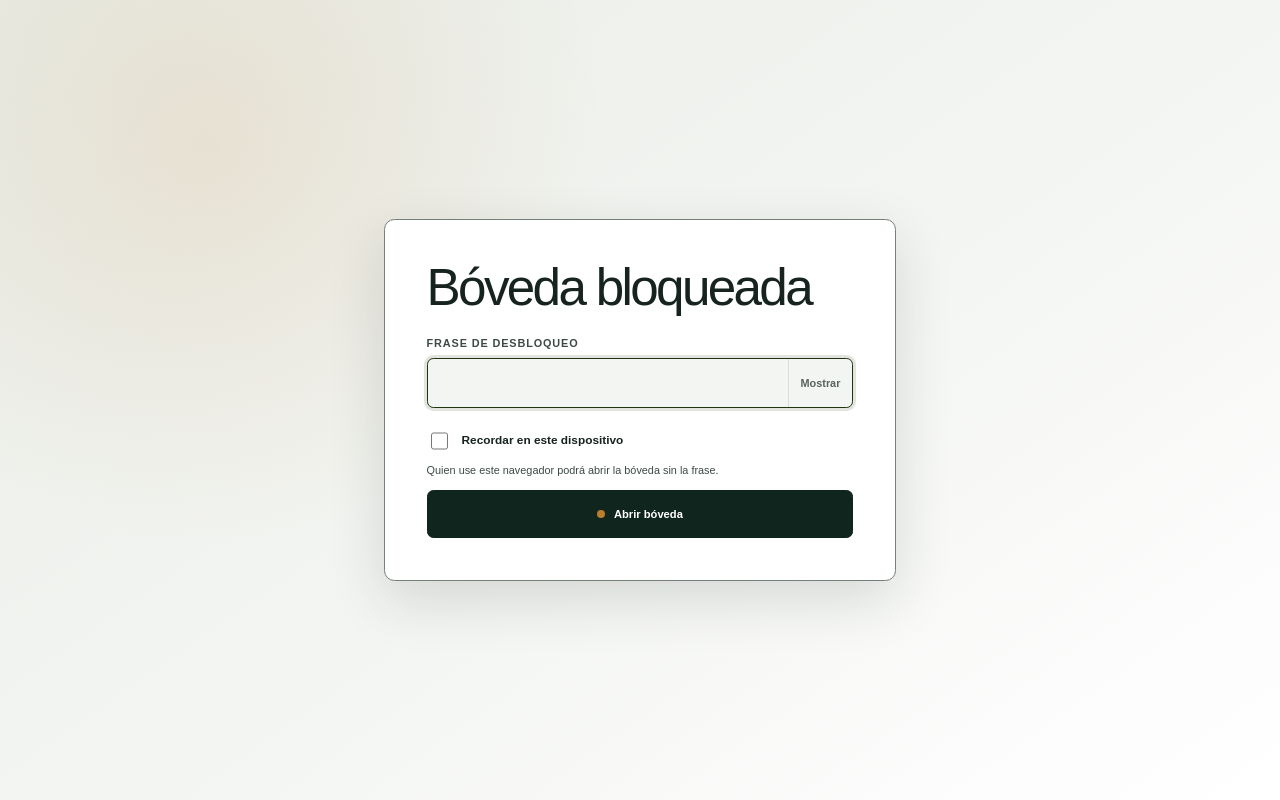
Test: App integration › opens the comparison directly without changing the selected perspective
Type "correct horse battery staple" into the password field labelled "Frase de desbloqueo" at (608, 383), box [428, 359, 788, 407]
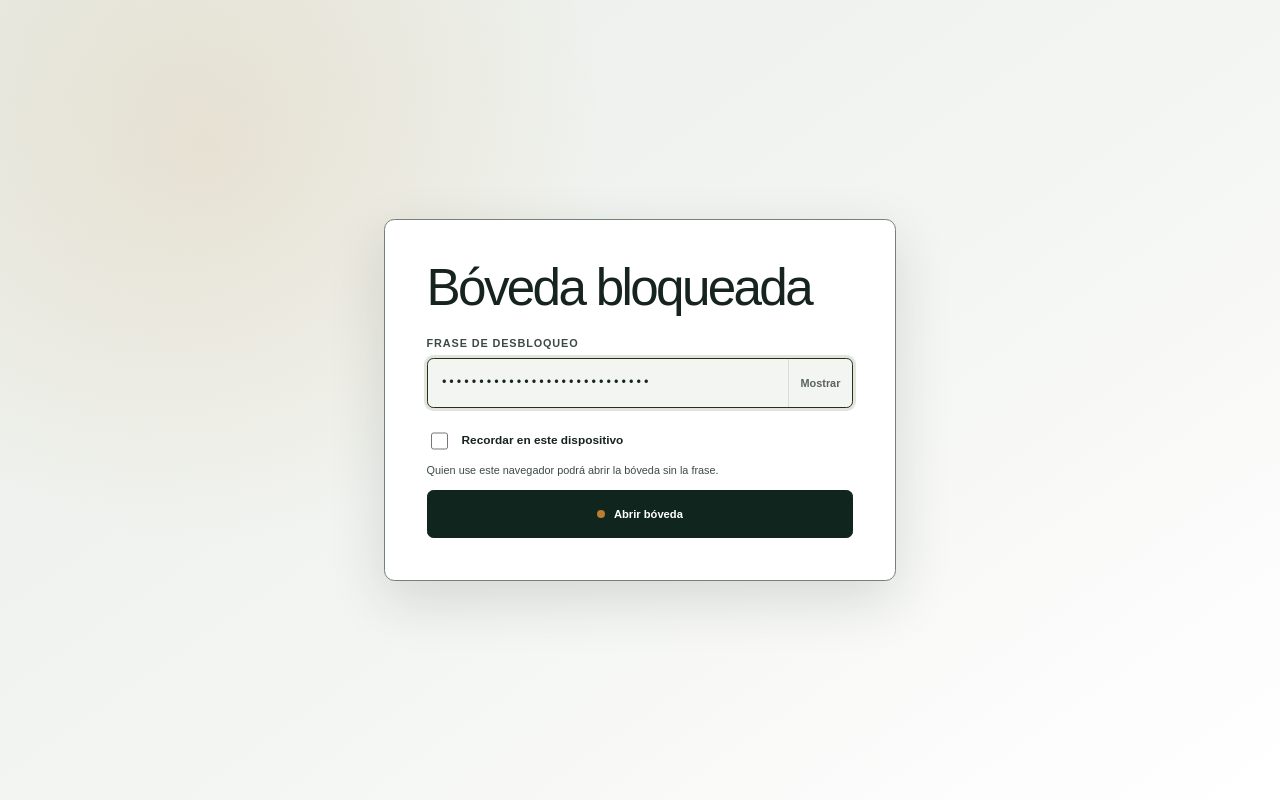
Click the button "Abrir bóveda" at (640, 514), box [427, 490, 853, 538]
(page scrolled)
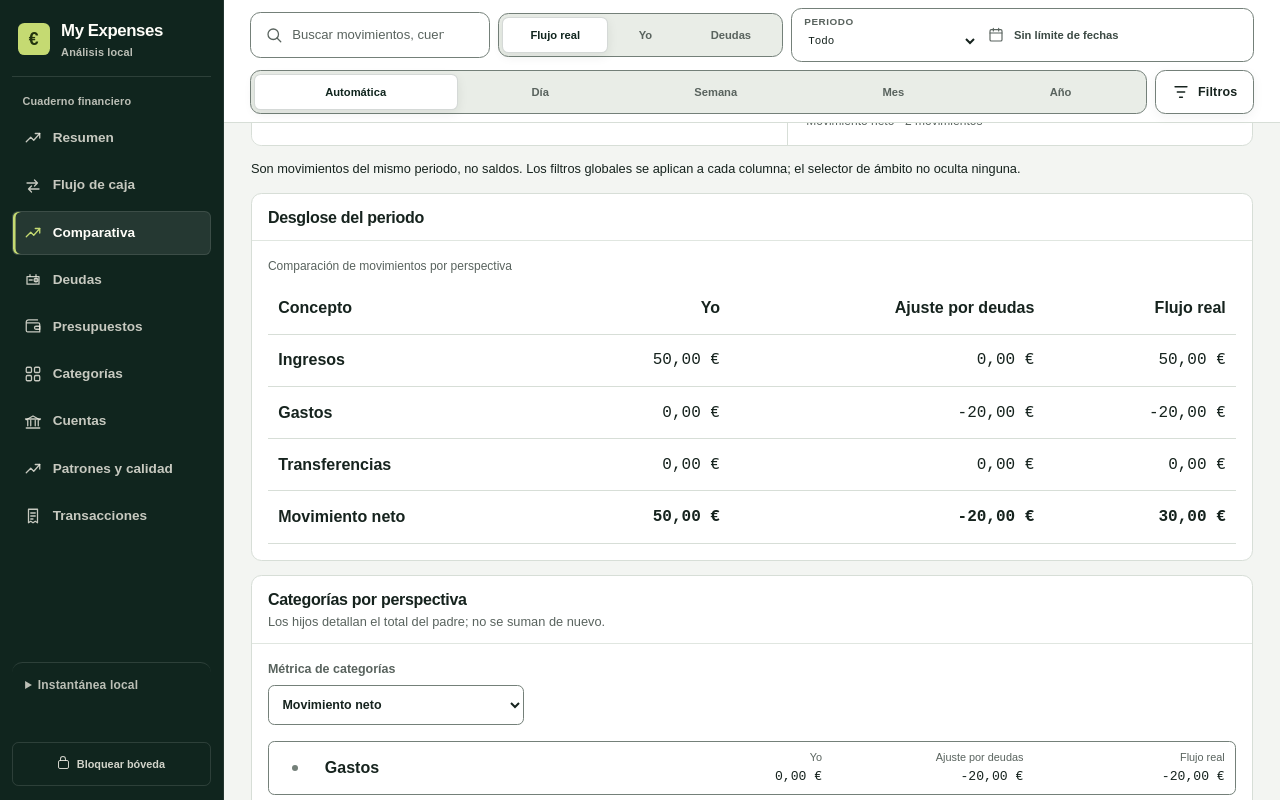
Expected: the table "Comparación de movimientos" is shown, [268, 257, 1236, 544]
